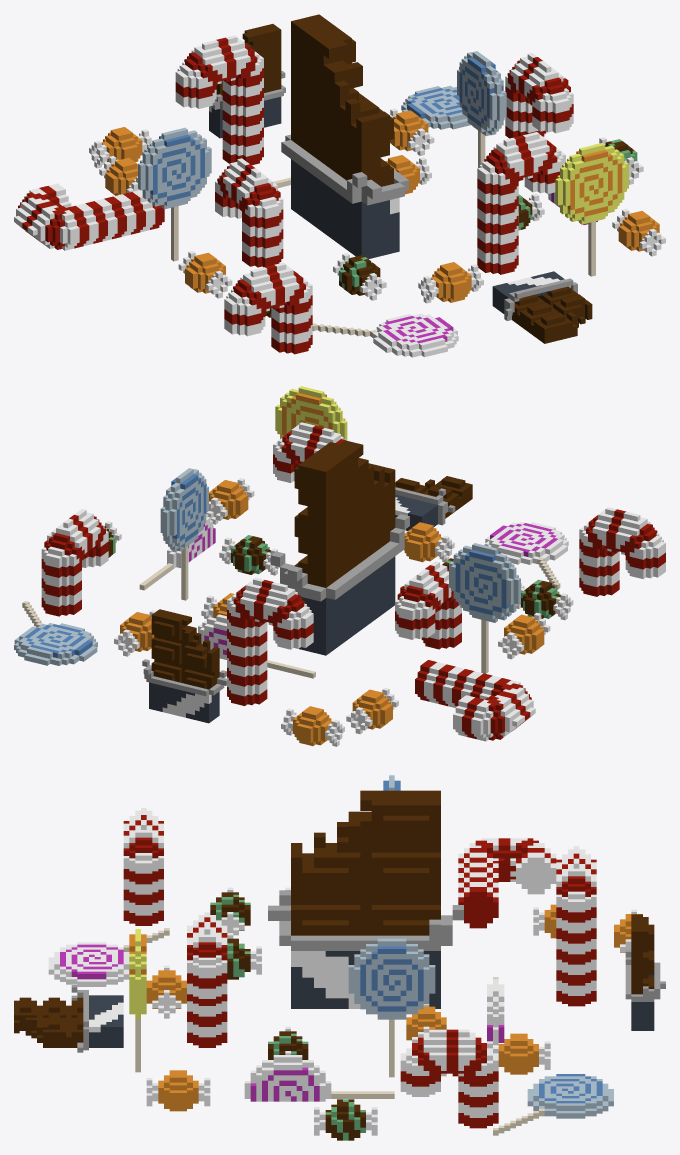
Rendered from candy_inner.obj.
3 views of the same model, one above another, from view 1: azimuth 30°, elevation 25°; view 2: azimuth 150°, elevation 25°; view 3: azimuth 270°, elevation 25° (orthographic). The views are drawn at different scales.
Parts seen in each view (by area): view 1: candy_inner; view 2: candy_inner; view 3: candy_inner.
Part boxes in pixels (x1,y1,x2,y2): candy_inner: (14,14,665,357); candy_inner: (14,386,665,746); candy_inner: (14,775,665,1140).
Size of the model in its own units: 113 by 38 by 113.
1 material, 1 textured.
